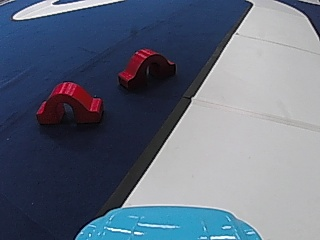bridge: (32, 78, 107, 127), (116, 44, 176, 92)
